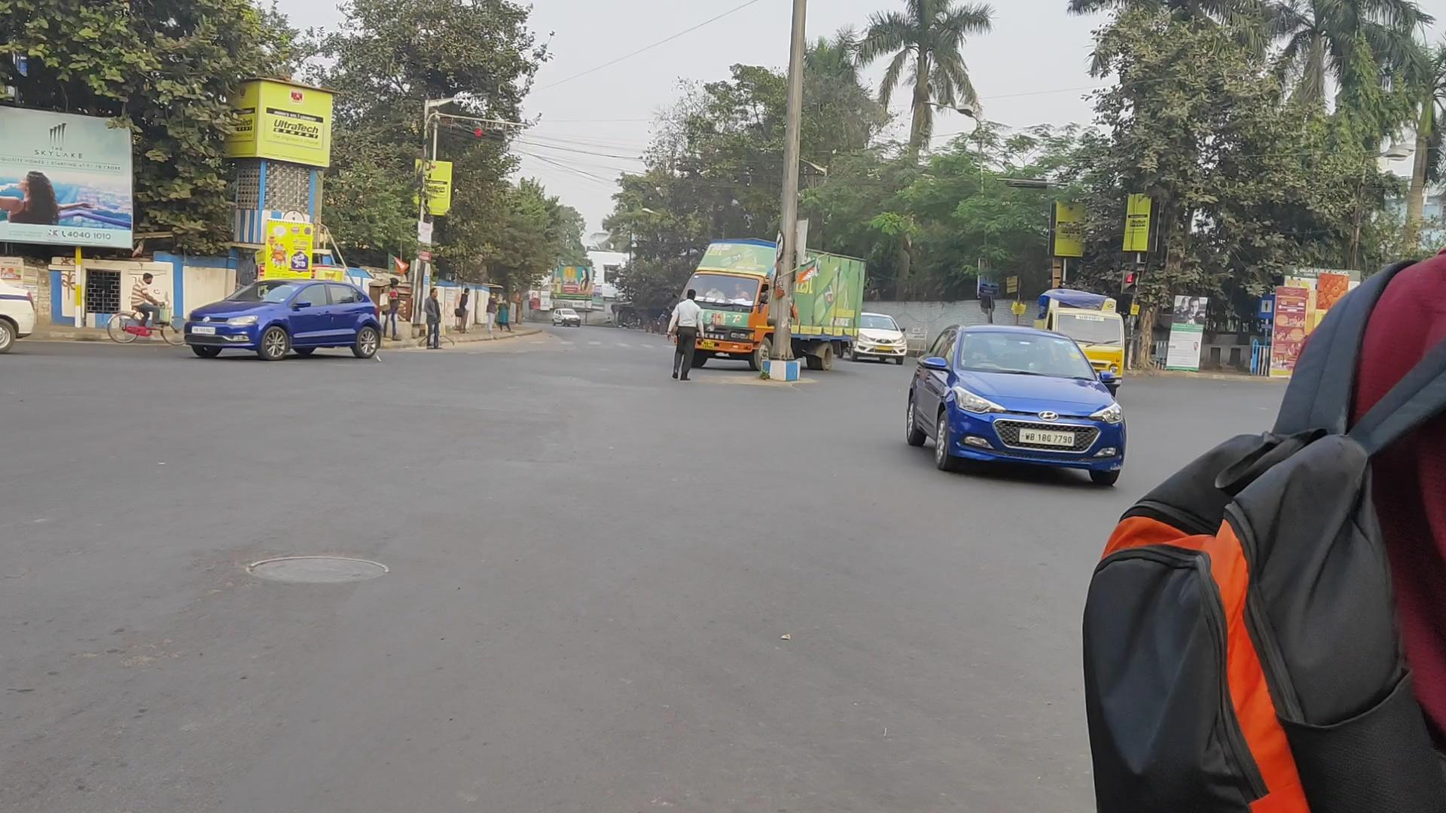bike: (107, 273, 189, 346)
car: (906, 324, 1126, 486), (184, 279, 382, 361), (837, 313, 908, 365), (552, 307, 581, 327)
truck: (674, 237, 866, 372)
van: (1031, 290, 1124, 402)
